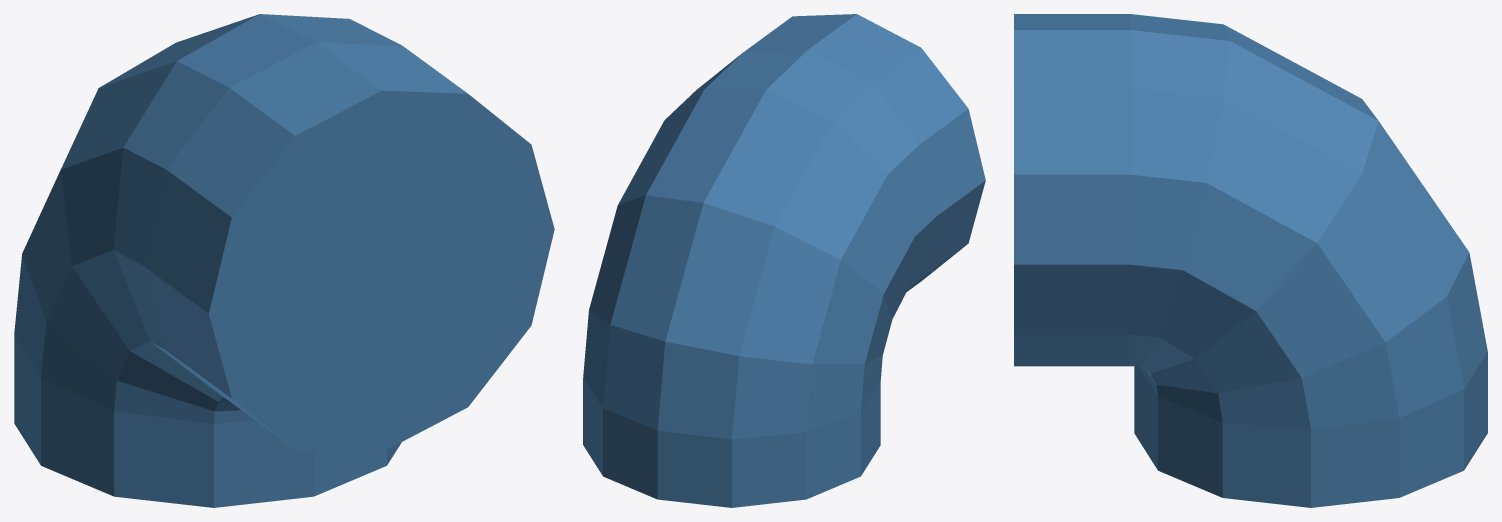
The model's file is O_enviroment_MetalPipe_Corner1.fbx.
The picture shows the model from 3 angles, left to right: view 1: azimuth 30°, elevation 25°; view 2: azimuth 150°, elevation 25°; view 3: azimuth 270°, elevation 25°; orthographic projection. The views are drawn at different scales.
Parts seen in each view (by area): view 1: pCylinder6; view 2: pCylinder6; view 3: pCylinder6.
Boxes of the visible parts, x1,y1,x2,y2 form: pCylinder6: (14,14,554,507); pCylinder6: (583,14,985,507); pCylinder6: (1014,14,1487,507).
Size of the model in its own units: 1.17 by 1.48 by 1.57.
